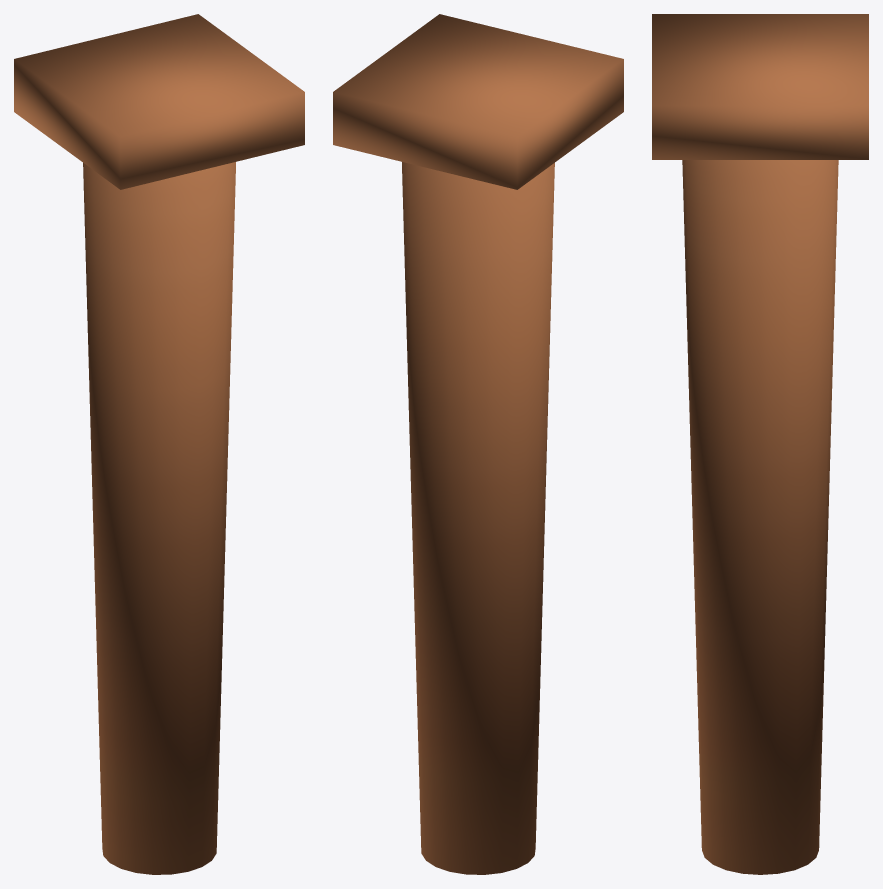
The model's file is Wooden_Leg_1.fbx.
3 renders of one model, left to right at view 1: azimuth 30°, elevation 25°; view 2: azimuth 150°, elevation 25°; view 3: azimuth 270°, elevation 25°, orthographic.
Visible parts, largest first — view 1: Wooden_Leg_1; view 2: Wooden_Leg_1; view 3: Wooden_Leg_1.
Part boxes in pixels (left/top/right/bottom): Wooden_Leg_1: left=14, top=14, right=304, bottom=874; Wooden_Leg_1: left=333, top=14, right=623, bottom=874; Wooden_Leg_1: left=652, top=14, right=868, bottom=874.
Bounding box in the file's own units: 17.97 × 72.26 × 17.97.
1 material, 1 textured.
